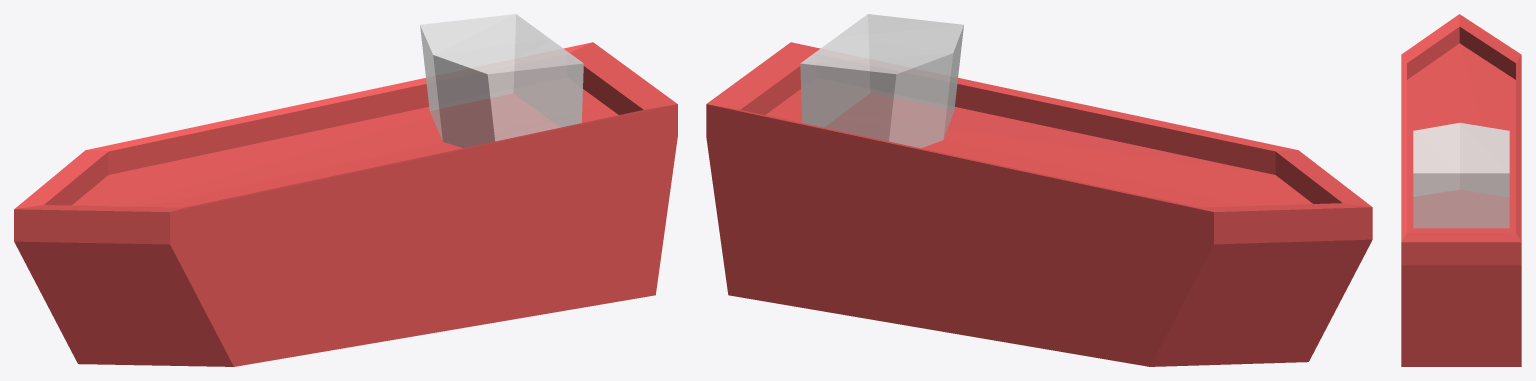
The model's file is Ship.fbx.
3 renders of one model, left to right at view 1: azimuth 30°, elevation 25°; view 2: azimuth 150°, elevation 25°; view 3: azimuth 270°, elevation 25°, orthographic. The views are drawn at different scales.
Visible parts, largest first — view 1: Ship; view 2: Ship; view 3: Ship.
Boxes of the visible parts, x1,y1,x2,y2 form: Ship: (14, 14, 677, 366); Ship: (706, 14, 1372, 366); Ship: (1401, 14, 1521, 366).
Size of the model in its own units: 9.76 by 3.81 by 2.3.
